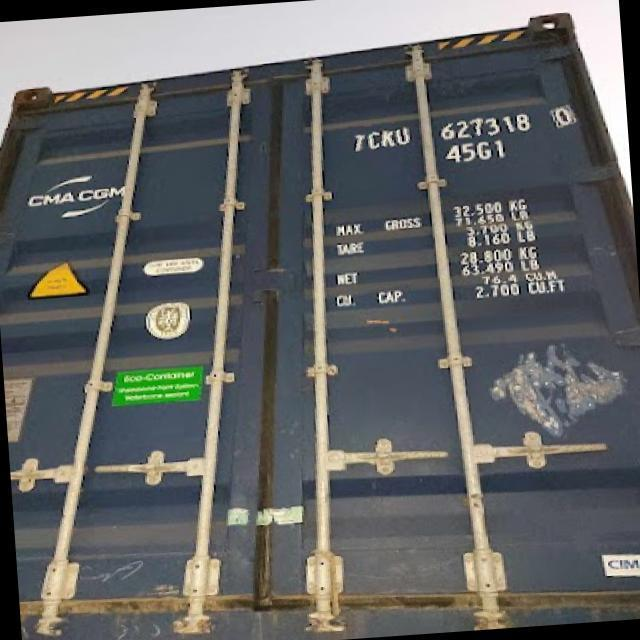ISO: (448, 140, 508, 163)
container_number: (346, 94, 577, 156)
